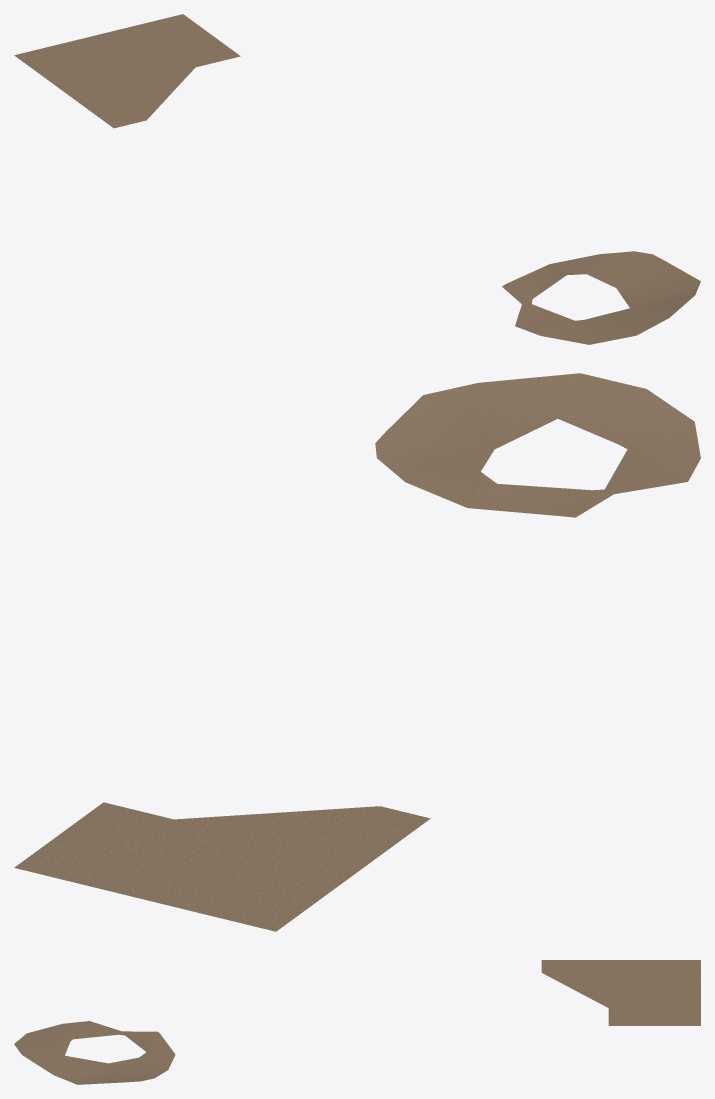
File: kd_stage_136282_1_28_bounded.glb
3 views of the same model, one above another, from view 1: azimuth 30°, elevation 25°; view 2: azimuth 150°, elevation 25°; view 3: azimuth 270°, elevation 25° (orthographic). The views are drawn at different scales.
Visible parts, largest first — view 1: kd_stage_136282_1_28_bounded; view 2: kd_stage_136282_1_28_bounded; view 3: kd_stage_136282_1_28_bounded.
Boxes of the visible parts, box(x1,y1,x2,y2) form: kd_stage_136282_1_28_bounded: box(14, 14, 700, 344); kd_stage_136282_1_28_bounded: box(14, 373, 700, 931); kd_stage_136282_1_28_bounded: box(14, 960, 700, 1084).
Size of the model in its own units: 13.69 by 0.8392 by 34.51.
Materials: 1 (1 with a texture image).
